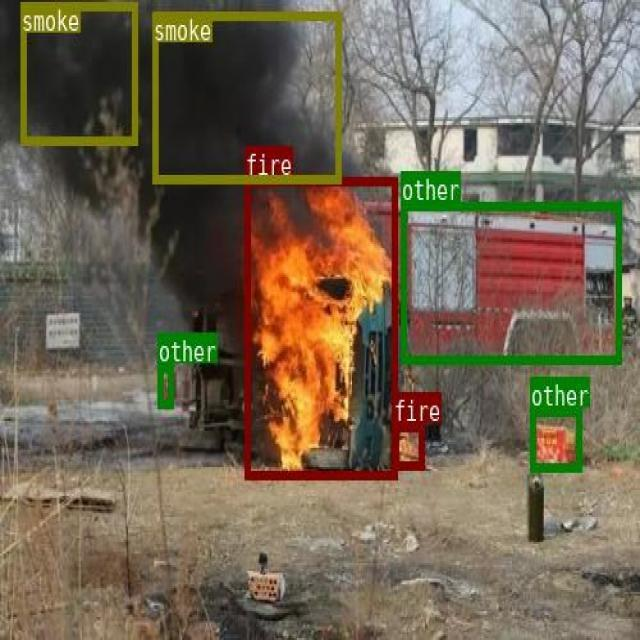fire: (244, 177, 396, 479), (392, 423, 423, 467)
smoke: (152, 11, 339, 182), (20, 1, 136, 143)
